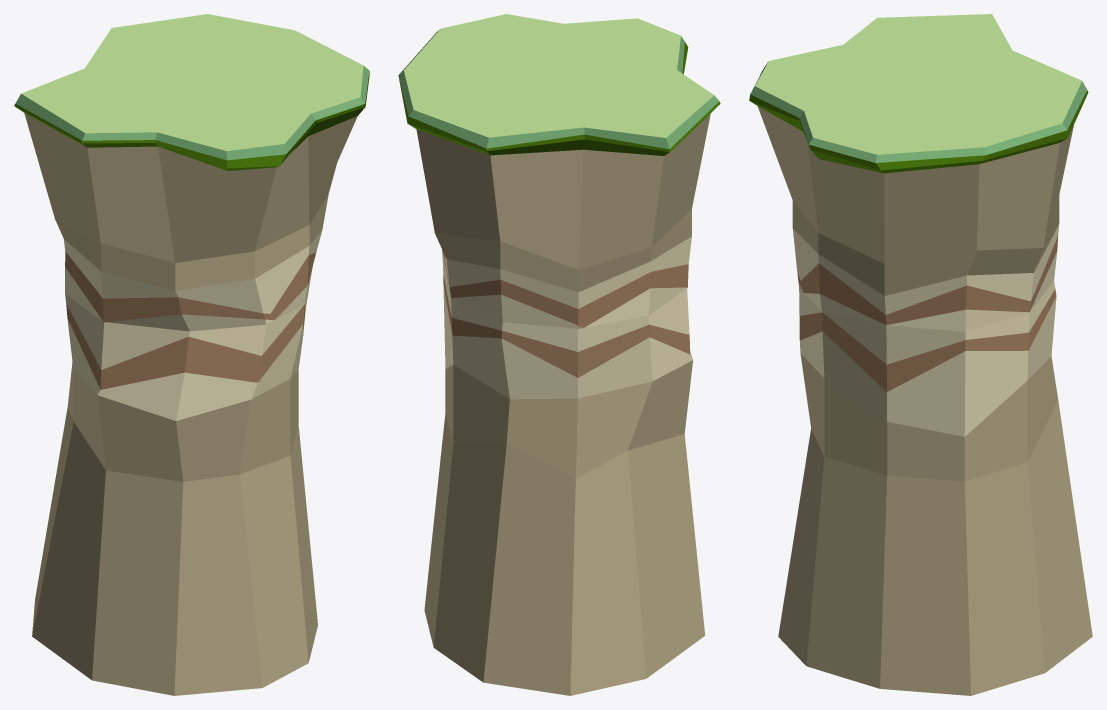
File: cliff3.fbx
3 views of the same model, side by side, from view 1: azimuth 30°, elevation 25°; view 2: azimuth 150°, elevation 25°; view 3: azimuth 270°, elevation 25° (orthographic). The views are drawn at different scales.
Visible parts, largest first — view 1: Cylinder; view 2: Cylinder; view 3: Cylinder.
Part boxes in pixels (x1,y1,x2,y2): Cylinder: [14, 14, 369, 695]; Cylinder: [398, 14, 720, 695]; Cylinder: [749, 14, 1092, 695].
Size of the model in its own units: 278 by 488 by 274.
